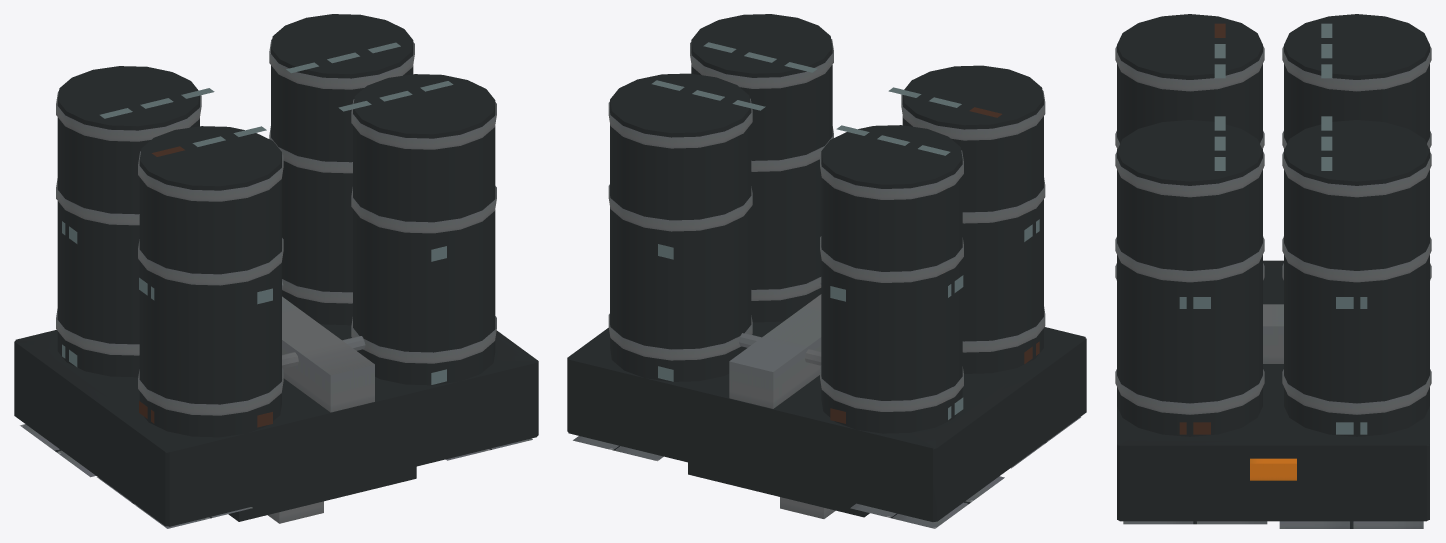
File: kit_dressing_tank_cluster.glb
3 renders of one model, left to right at view 1: azimuth 30°, elevation 25°; view 2: azimuth 150°, elevation 25°; view 3: azimuth 270°, elevation 25°, orthographic. The views are drawn at different scales.
Parts seen in each view (by area): view 1: lod0; view 2: lod0; view 3: lod0.
Boxes of the visible parts, x1=… form: lod0: x1=14, y1=14, x2=538, y2=528; lod0: x1=567, y1=14, x2=1086, y2=528; lod0: x1=1115, y1=14, x2=1431, y2=528.
Size of what is drawn, in the model's own units: 43.2 by 43.04 by 30.3.
Materials: 1 (1 with a texture image).
